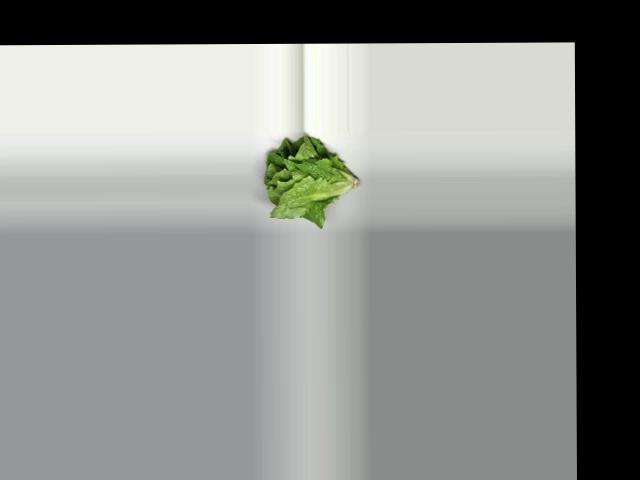lettuce: (259, 129, 367, 226)
